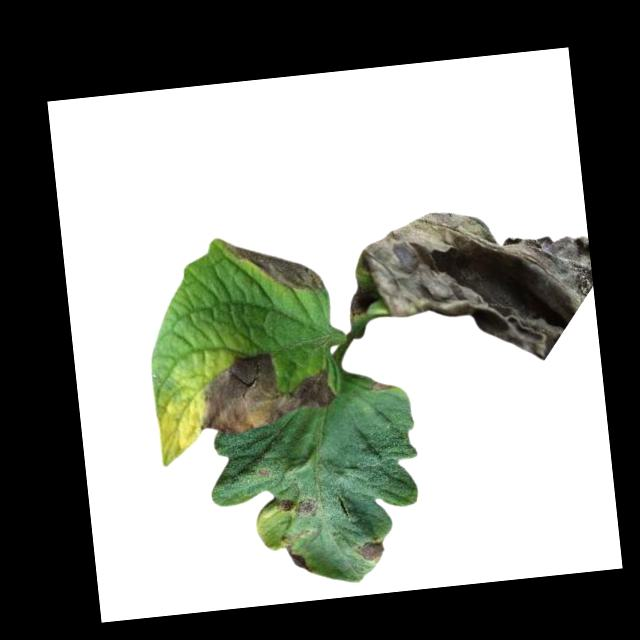Early_blight: (341, 196, 599, 381), (192, 344, 337, 439), (224, 230, 324, 302), (276, 494, 319, 521), (284, 541, 312, 573), (354, 537, 388, 563), (368, 378, 392, 394), (256, 467, 272, 481)
